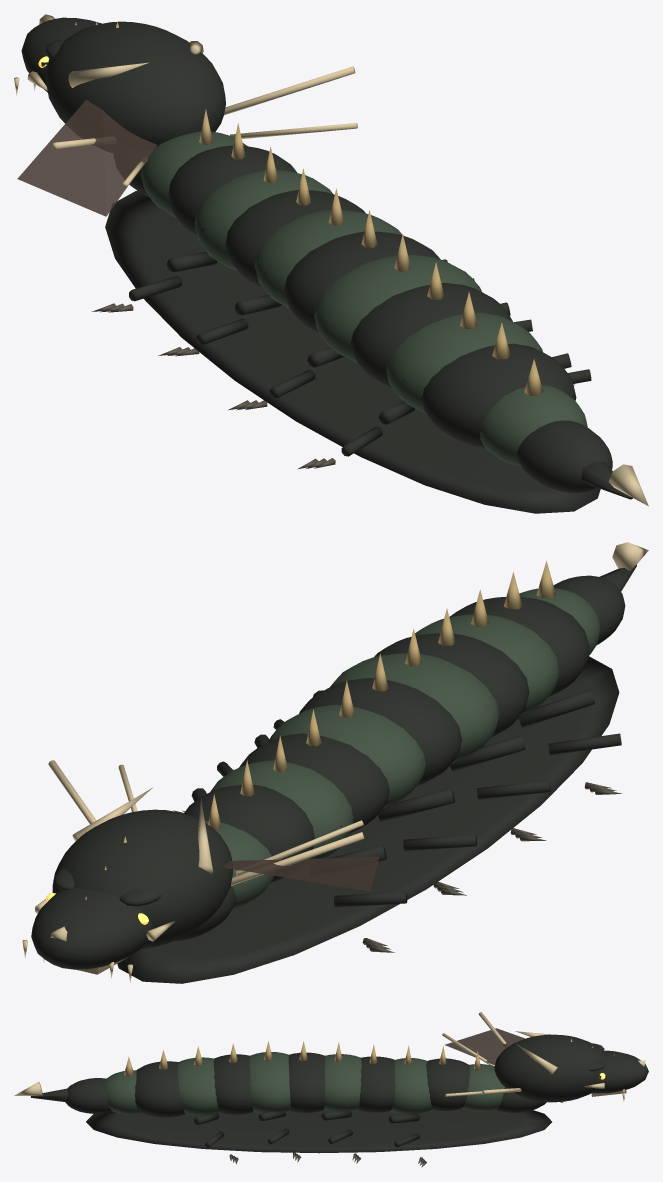
File: AzhdahaActor.glb
The picture shows the model from 3 angles, top to bottom: view 1: azimuth 30°, elevation 25°; view 2: azimuth 150°, elevation 25°; view 3: azimuth 270°, elevation 25°; orthographic projection. The views are drawn at different scales.
Visible parts, largest first — view 1: azhdaha_ground_shadow_mass, azhdaha_skull_mass, azhdaha_folded_membrane_L, azhdaha_armored_body_02, azhdaha_armored_body_05, azhdaha_armored_body_04, azhdaha_armored_body_03, azhdaha_armored_body_06, azhdaha_armored_body_00, azhdaha_armored_body_07, azhdaha_armored_body_01, azhdaha_armored_body_09 (+9 smaller); view 2: azhdaha_ground_shadow_mass, azhdaha_skull_mass, azhdaha_long_muzzle, azhdaha_armored_body_05, azhdaha_armored_body_06, azhdaha_armored_body_07, azhdaha_armored_body_08, azhdaha_armored_body_10, azhdaha_armored_body_04, azhdaha_armored_body_09, azhdaha_armored_body_03, azhdaha_armored_body_02 (+16 smaller); view 3: azhdaha_ground_shadow_mass, azhdaha_skull_mass, azhdaha_armored_body_05, azhdaha_armored_body_02, azhdaha_armored_body_04, azhdaha_armored_body_06, azhdaha_armored_body_03, azhdaha_armored_body_07, azhdaha_armored_body_10, azhdaha_armored_body_09, azhdaha_armored_body_08, azhdaha_long_muzzle (+8 smaller).
Boxes of the visible parts, left/top/right/bottom form: azhdaha_ground_shadow_mass: left=105, top=190, right=600, bottom=513; azhdaha_skull_mass: left=45, top=21, right=225, bottom=146; azhdaha_folded_membrane_L: left=17, top=99, right=156, bottom=216; azhdaha_armored_body_02: left=421, top=343, right=576, bottom=447; azhdaha_armored_body_05: left=314, top=254, right=481, bottom=362; azhdaha_armored_body_04: left=350, top=283, right=512, bottom=387; azhdaha_armored_body_03: left=386, top=312, right=542, bottom=413; azhdaha_armored_body_06: left=284, top=231, right=440, bottom=332; azhdaha_armored_body_00: left=516, top=420, right=612, bottom=492; azhdaha_armored_body_07: left=255, top=210, right=402, bottom=308; azhdaha_armored_body_01: left=480, top=385, right=587, bottom=466; azhdaha_armored_body_09: left=194, top=169, right=332, bottom=270; azhdaha_ground_shadow_mass: left=117, top=656, right=619, bottom=983; azhdaha_skull_mass: left=52, top=809, right=232, bottom=949; azhdaha_long_muzzle: left=31, top=888, right=154, bottom=969; azhdaha_armored_body_05: left=330, top=653, right=499, bottom=763; azhdaha_armored_body_06: left=299, top=678, right=461, bottom=785; azhdaha_armored_body_07: left=267, top=704, right=425, bottom=808; azhdaha_armored_body_08: left=239, top=733, right=389, bottom=833; azhdaha_armored_body_10: left=184, top=785, right=314, bottom=882; azhdaha_armored_body_04: left=374, top=633, right=529, bottom=737; azhdaha_armored_body_09: left=210, top=760, right=353, bottom=858; azhdaha_armored_body_03: left=415, top=614, right=559, bottom=715; azhdaha_armored_body_02: left=449, top=597, right=589, bottom=696; azhdaha_ground_shadow_mass: left=86, top=1109, right=551, bottom=1153; azhdaha_skull_mass: left=494, top=1034, right=603, bottom=1102; azhdaha_armored_body_05: left=249, top=1052, right=290, bottom=1113; azhdaha_armored_body_02: left=135, top=1061, right=185, bottom=1117; azhdaha_armored_body_04: left=213, top=1054, right=253, bottom=1114; azhdaha_armored_body_06: left=288, top=1052, right=325, bottom=1112; azhdaha_armored_body_03: left=178, top=1057, right=219, bottom=1115; azhdaha_armored_body_07: left=324, top=1054, right=361, bottom=1111; azhdaha_armored_body_10: left=426, top=1058, right=469, bottom=1110; azhdaha_armored_body_09: left=390, top=1058, right=432, bottom=1114; azhdaha_armored_body_08: left=358, top=1056, right=395, bottom=1112; azhdaha_long_muzzle: left=592, top=1050, right=648, bottom=1093.
Size of the model in its own units: 1.9 by 0.9152 by 5.66.
